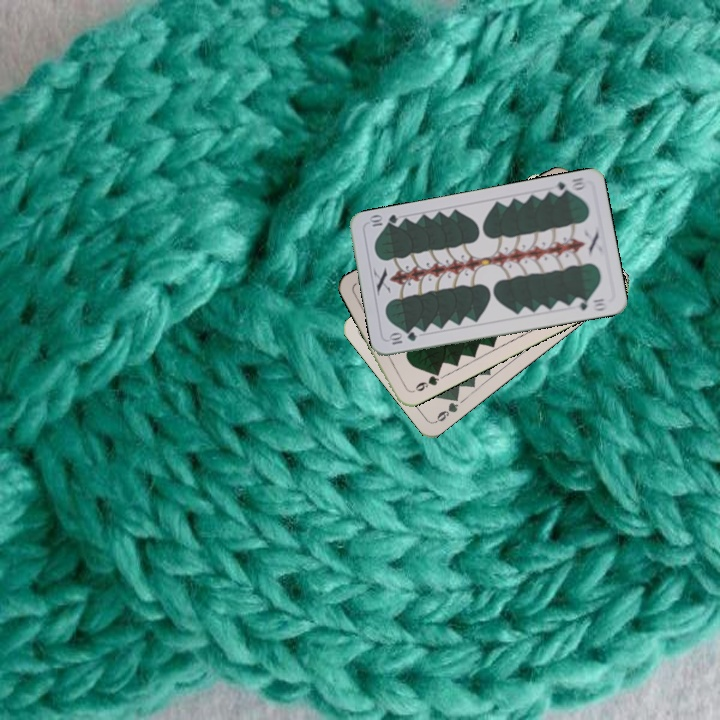G10: (548, 173, 588, 198), (385, 328, 419, 347)
G9: (431, 391, 462, 425), (407, 367, 443, 395)
